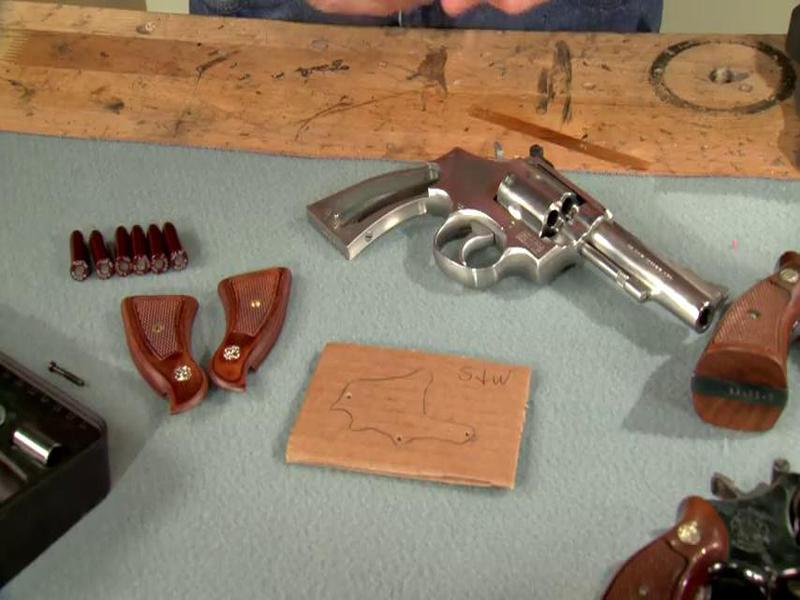Revolver: (270, 99, 710, 364)
